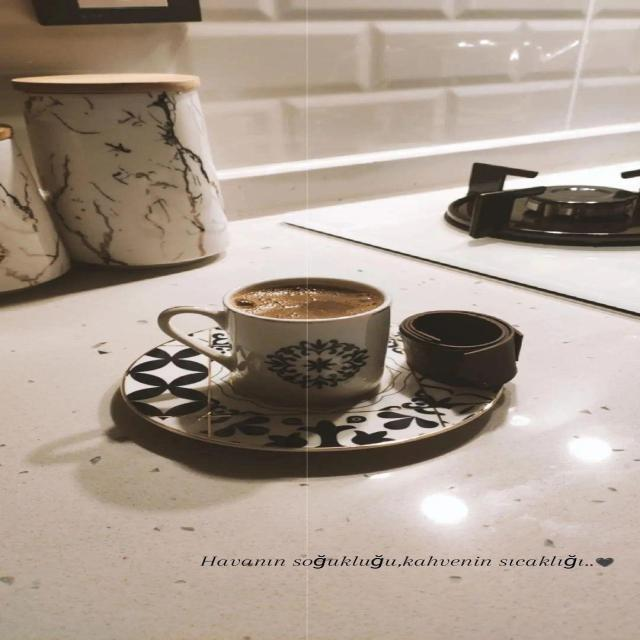cup-handle: (154, 272, 394, 411)
